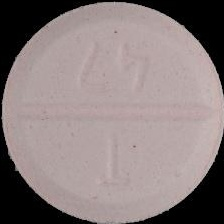51672-4044: (0, 0, 224, 224)
